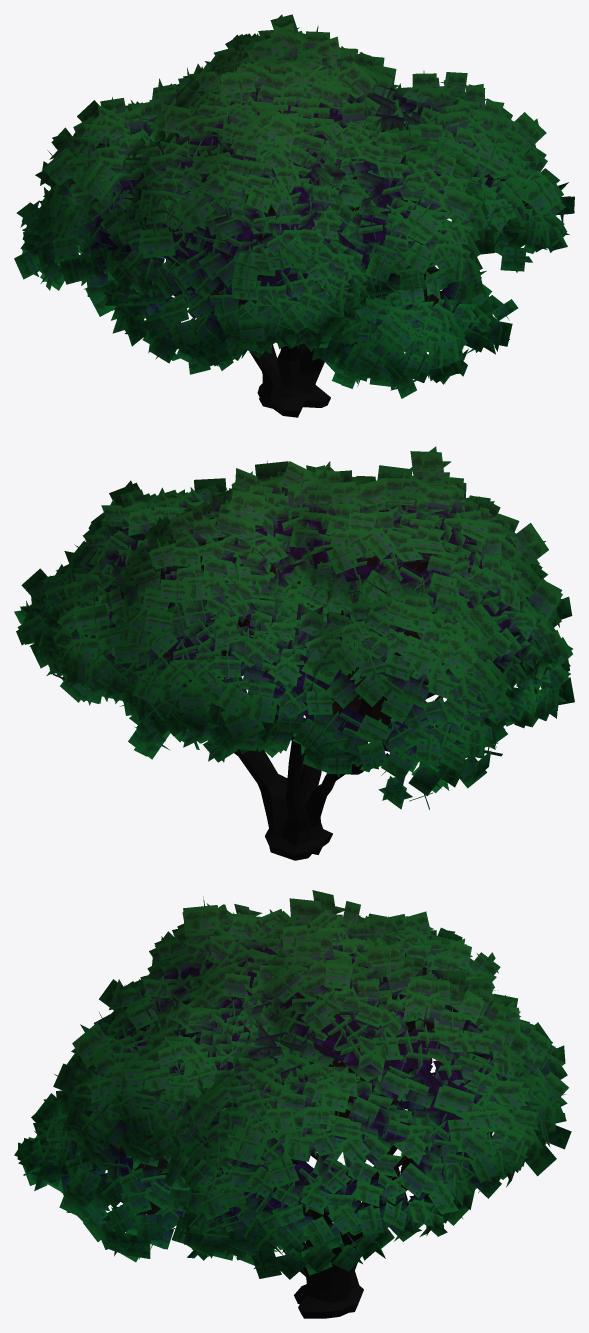
Rendered from SM_Env_Tree_Pohutukawa_02.gltf.
The picture shows the model from 3 angles, top to bottom: view 1: azimuth 30°, elevation 25°; view 2: azimuth 150°, elevation 25°; view 3: azimuth 270°, elevation 25°; orthographic projection. The views are drawn at different scales.
Visible parts, largest first — view 1: SM_Env_Tree_Pohutukawa_02_LOD0, SM_Env_Tree_Pohutukawa_02_Branches_LOD0; view 2: SM_Env_Tree_Pohutukawa_02_LOD0, SM_Env_Tree_Pohutukawa_02_Branches_LOD0; view 3: SM_Env_Tree_Pohutukawa_02_LOD0, SM_Env_Tree_Pohutukawa_02_Branches_LOD0.
Part boxes in pixels (box(x1,y1,x2,y2)): SM_Env_Tree_Pohutukawa_02_LOD0: box(14, 14, 574, 417); SM_Env_Tree_Pohutukawa_02_Branches_LOD0: box(201, 110, 531, 354); SM_Env_Tree_Pohutukawa_02_LOD0: box(14, 446, 574, 860); SM_Env_Tree_Pohutukawa_02_Branches_LOD0: box(161, 538, 520, 725); SM_Env_Tree_Pohutukawa_02_LOD0: box(14, 890, 571, 1318); SM_Env_Tree_Pohutukawa_02_Branches_LOD0: box(93, 967, 484, 1215).
Size of what is drawn, in the model's own units: 8.64 by 5.97 by 8.03.
1 material, 1 textured.
